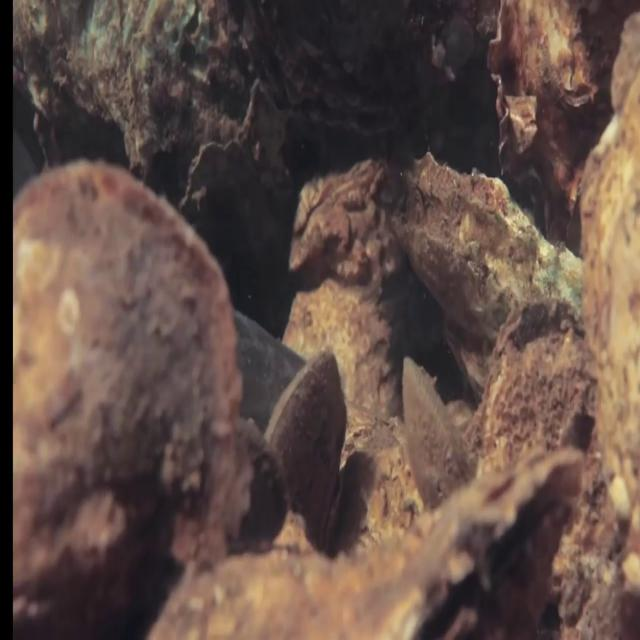Oyster-Closed: (156, 422, 595, 637), (366, 140, 595, 398), (261, 342, 352, 529), (401, 356, 476, 513)
Oyster-Indeterminate: (13, 147, 265, 630), (230, 2, 443, 153), (464, 298, 597, 463), (179, 80, 298, 229)
